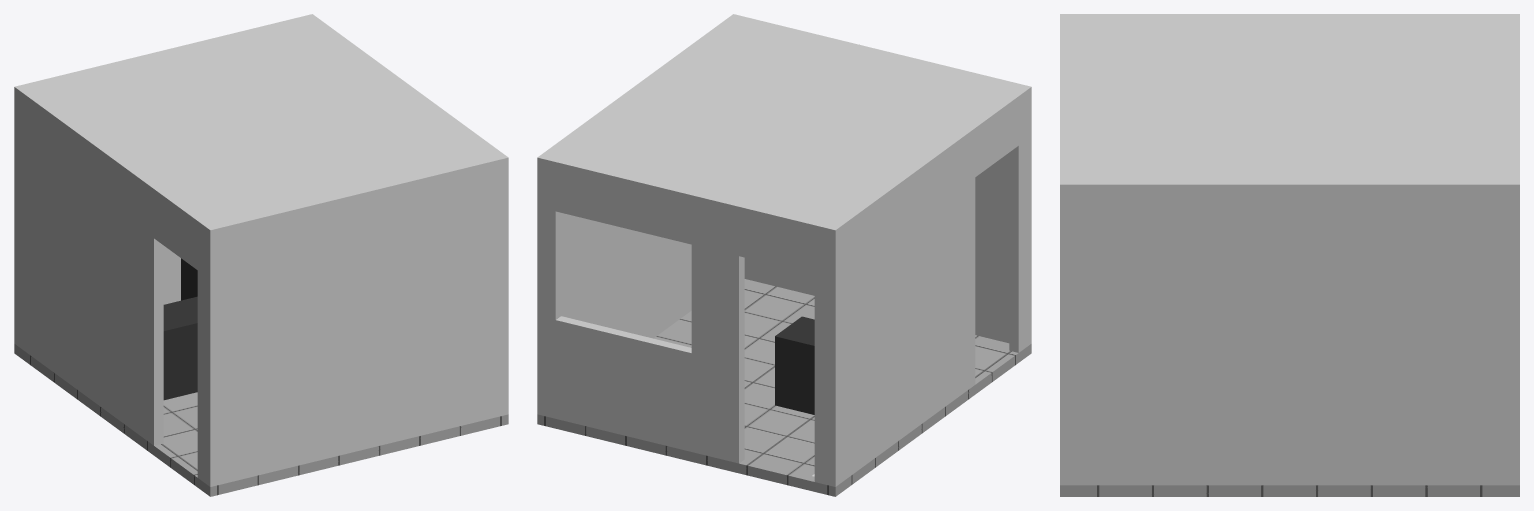
Rendered from escritorio.glb.
The picture shows the model from 3 angles, left to right: view 1: azimuth 30°, elevation 25°; view 2: azimuth 150°, elevation 25°; view 3: azimuth 270°, elevation 25°; orthographic projection. The views are drawn at different scales.
Parts seen in each view (by area): view 1: Rectangle001, Rectangle003, Rectangle002, Rectangle004, Rectangle005; view 2: Rectangle001, Rectangle003, Rectangle002, Rectangle004; view 3: Rectangle001, Rectangle003, Rectangle002.
Boxes of the visible parts, box(x1,y1,x2,y2) form: Rectangle001: box(14, 97, 508, 486); Rectangle003: box(14, 14, 508, 239); Rectangle002: box(14, 344, 508, 496); Rectangle004: box(163, 296, 197, 400); Rectangle005: box(181, 258, 197, 300); Rectangle001: box(537, 97, 1031, 486); Rectangle003: box(537, 14, 1031, 239); Rectangle002: box(537, 279, 1031, 496); Rectangle004: box(775, 316, 814, 414); Rectangle001: box(1060, 196, 1519, 485); Rectangle003: box(1060, 14, 1519, 195); Rectangle002: box(1060, 485, 1519, 496).
Bounding box in the file's own units: 3.16 × 2.7 × 3.6.
Materials: 3 (1 with a texture image).
